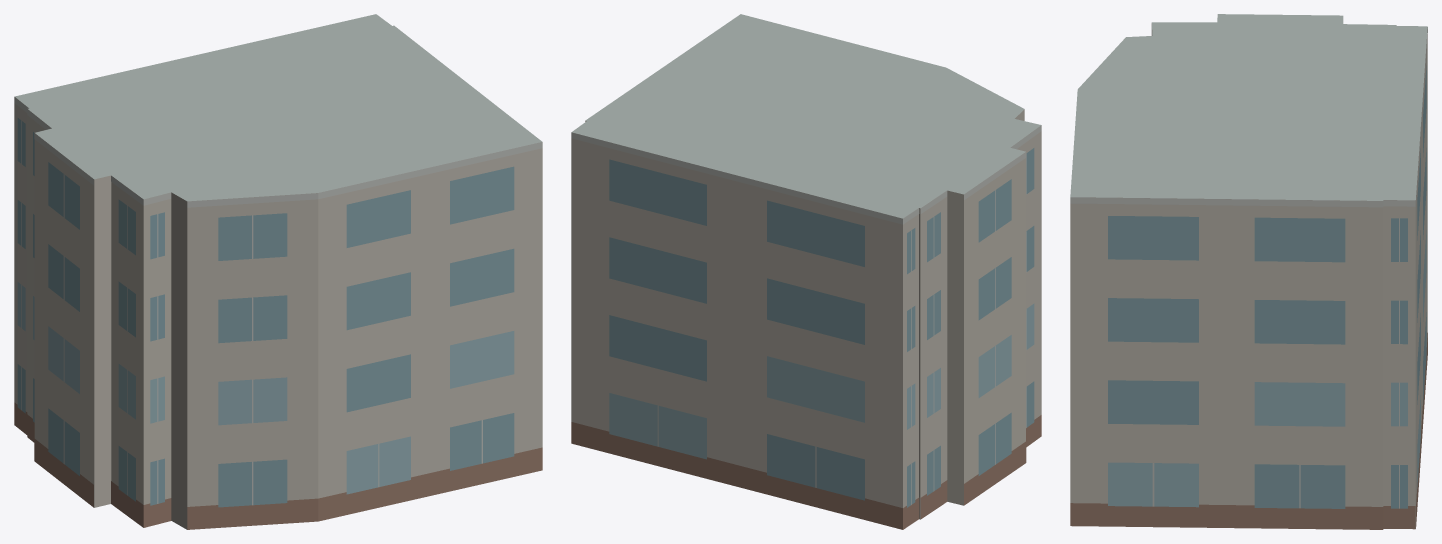
File: survey-upis-32743290.glb
3 renders of one model, left to right at view 1: azimuth 30°, elevation 25°; view 2: azimuth 150°, elevation 25°; view 3: azimuth 270°, elevation 25°, orthographic. The views are drawn at different scales.
Parts seen in each view (by area): view 1: survey-upis-32743290.tmp; view 2: survey-upis-32743290.tmp; view 3: survey-upis-32743290.tmp.
Boxes of the visible parts, x1=… form: survey-upis-32743290.tmp: x1=14, y1=14, x2=542, y2=529; survey-upis-32743290.tmp: x1=571, y1=14, x2=1041, y2=529; survey-upis-32743290.tmp: x1=1070, y1=14, x2=1427, y2=529.
Bounding box in the file's own units: 15.43 × 12.65 × 12.47.
